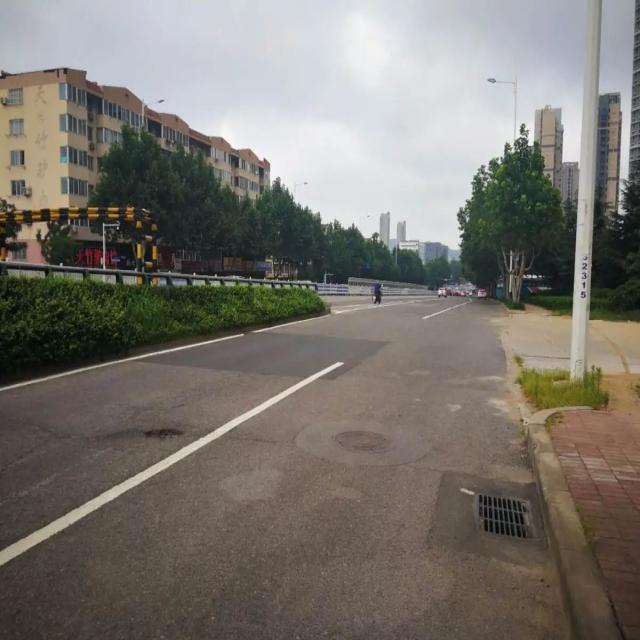pothole: (143, 423, 183, 443)
